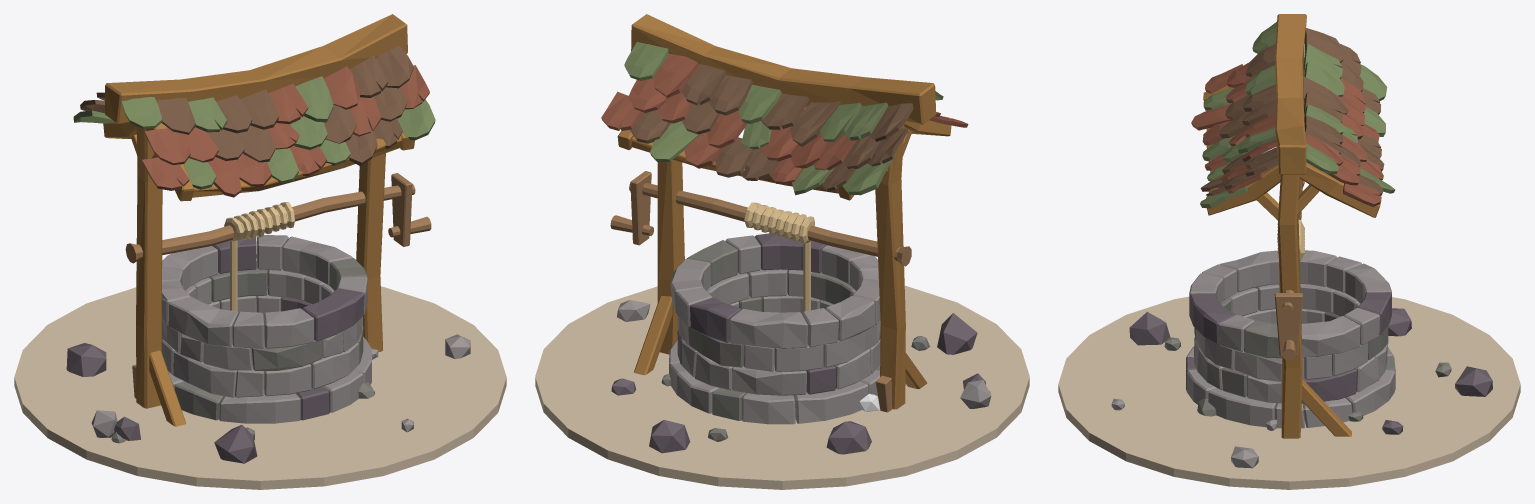
The model's file is low_poly_well.glb.
The picture shows the model from 3 angles, left to right: view 1: azimuth 30°, elevation 25°; view 2: azimuth 150°, elevation 25°; view 3: azimuth 270°, elevation 25°; orthographic projection. The views are drawn at different scales.
Visible parts, largest first — view 1: floor, Plane.086, Cube.009, Cube.004, Cube.005, Cylinder, Cube.028, Cube.064, Cube.031, Cube.022, Cube.030, Cube.053 (+26 smaller); view 2: floor, Plane.034, Cube.009, Cube.004, Cube.005, Cube.025, Cylinder, Cube.061, Cube.050, Cube.031, Cylinder.002, Cube.060 (+33 smaller); view 3: floor, Plane.034, Plane.086, Cube.009, Cube.005, Cube.022, Cube.055, Cube.028, Cube.031, Cube.018, Cube.011, Cube.058 (+28 smaller).
Part boxes in pixels (left/top/right/bottom): floor: left=14, top=286, right=506, bottom=489; Plane.086: left=121, top=46, right=435, bottom=197; Cube.009: left=105, top=14, right=407, bottom=124; Cube.004: left=136, top=126, right=162, bottom=408; Cube.005: left=356, top=153, right=385, bottom=352; Cylinder: left=125, top=184, right=415, bottom=263; Cube.028: left=168, top=296, right=238, bottom=346; Cube.064: left=219, top=389, right=300, bottom=423; Cube.031: left=302, top=288, right=364, bottom=341; Cube.022: left=282, top=236, right=352, bottom=285; Cube.030: left=264, top=308, right=314, bottom=348; Cube.053: left=173, top=350, right=237, bottom=397; floor: left=535, top=285, right=1029, bottom=489; Plane.034: left=601, top=42, right=913, bottom=195; Cube.009: left=631, top=14, right=936, bottom=124; Cube.004: left=875, top=124, right=905, bottom=409; Cube.005: left=657, top=123, right=684, bottom=354; Cube.025: left=729, top=308, right=807, bottom=348; Cylinder: left=629, top=183, right=911, bottom=266; Cube.061: left=793, top=381, right=868, bottom=423; Cube.050: left=732, top=365, right=806, bottom=395; Cube.031: left=754, top=233, right=826, bottom=273; Cylinder.002: left=744, top=202, right=814, bottom=243; Cube.060: left=742, top=393, right=795, bottom=424; floor: left=1058, top=296, right=1520, bottom=489; Plane.034: left=1303, top=28, right=1395, bottom=206; Plane.086: left=1191, top=22, right=1278, bottom=208; Cube.009: left=1274, top=14, right=1306, bottom=174; Cube.005: left=1277, top=174, right=1302, bottom=438; Cube.022: left=1301, top=316, right=1360, bottom=357; Cube.055: left=1208, top=388, right=1276, bottom=427; Cube.028: left=1219, top=250, right=1279, bottom=292; Cube.031: left=1189, top=293, right=1235, bottom=344; Cube.018: left=1274, top=293, right=1302, bottom=356; Cube.011: left=1299, top=162, right=1381, bottom=217; Cube.058: left=1345, top=370, right=1395, bottom=415.
Size of the model in its own units: 33.44 by 25.59 by 33.44.
